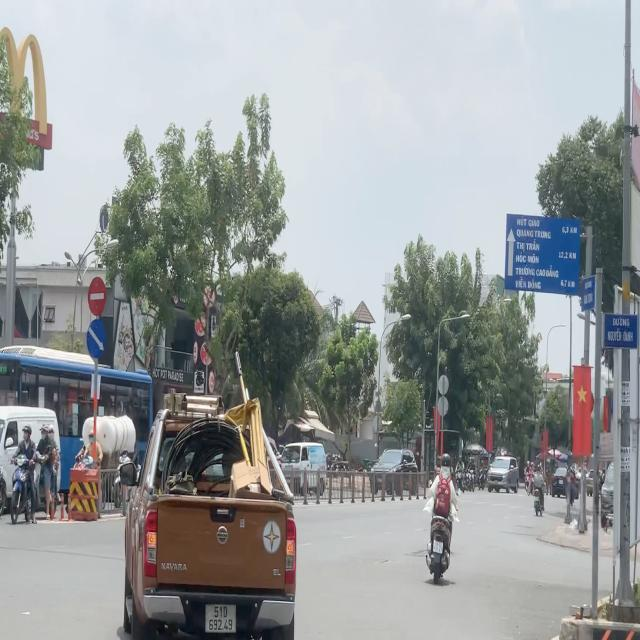Cam nguoc chieu: (88, 276, 106, 316)
Hieu lenh: (86, 318, 107, 359)
